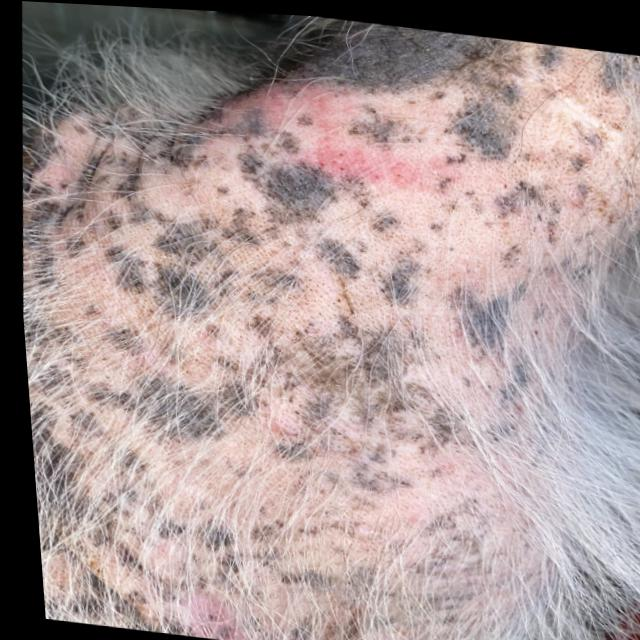demodicosis: (230, 223, 517, 618), (211, 11, 615, 249), (40, 137, 191, 588)
